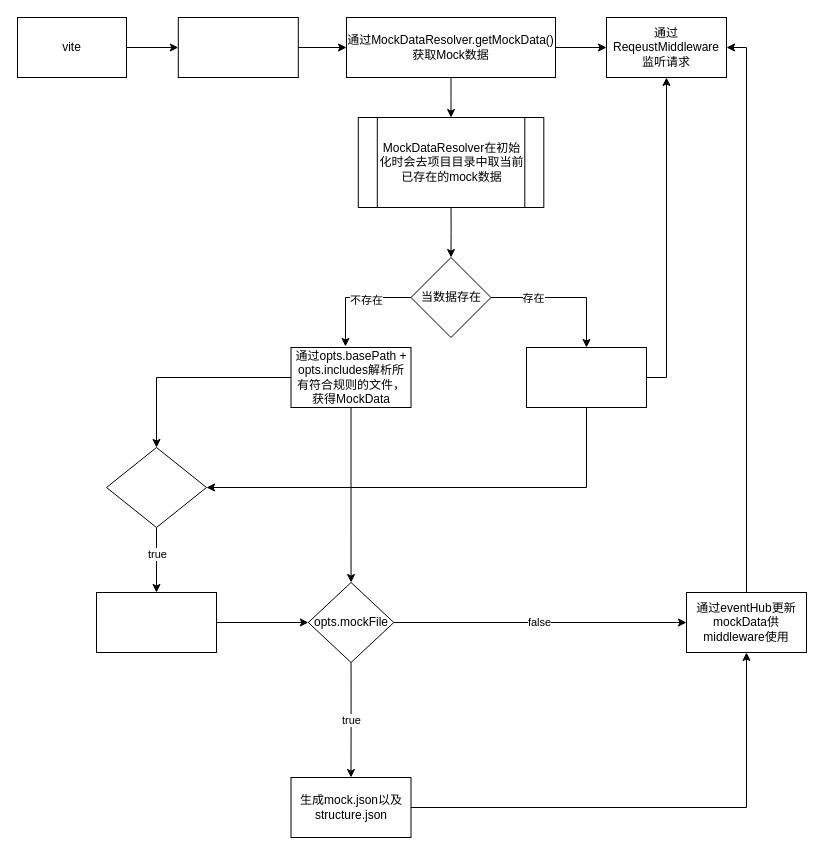
Some shapes in this 824 by 855 pixel diagram are drawn without their labels. The centre of each missing label's shape, as x and y in pixels:
opts.watchFile: the point at 156,487
vite-plugin-faker: the point at 237,47
使用当前数据作为Mock数据: the point at 586,377
通过structure比对出来变更部分: the point at 156,622
